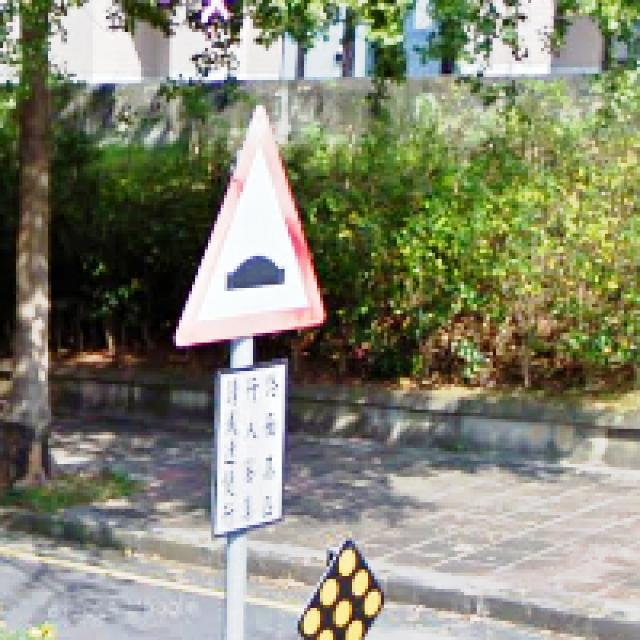hump: (175, 105, 326, 348)
